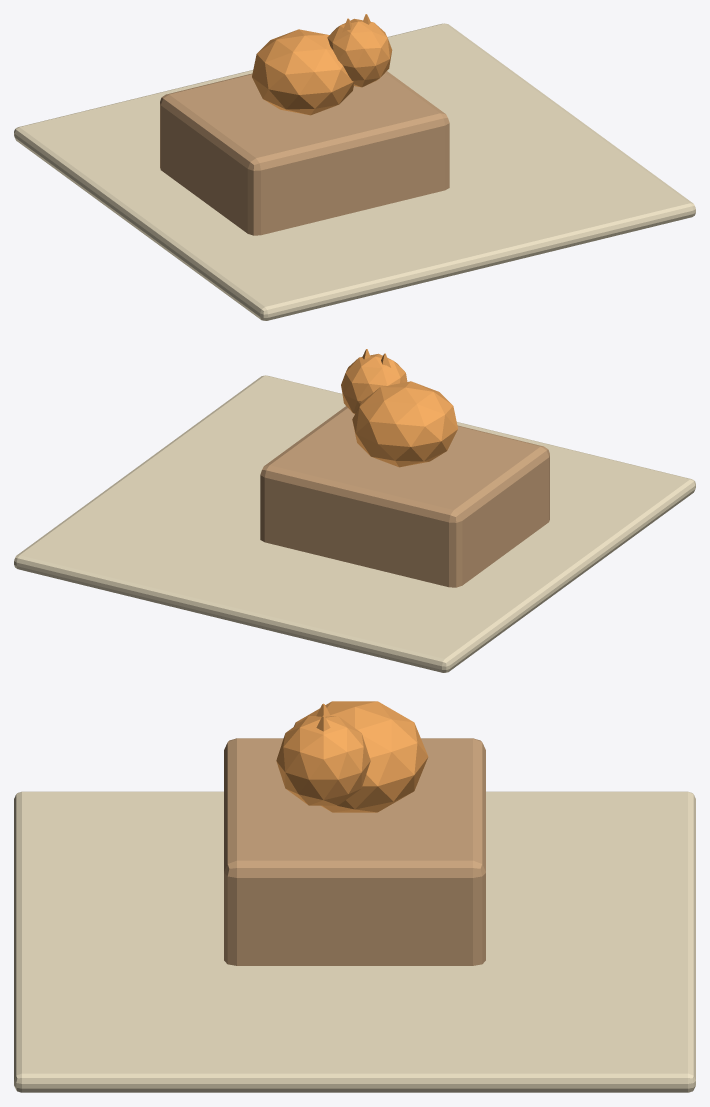
File: goc-meo.glb
The picture shows the model from 3 angles, top to bottom: view 1: azimuth 30°, elevation 25°; view 2: azimuth 150°, elevation 25°; view 3: azimuth 270°, elevation 25°; orthographic projection. The views are drawn at different scales.
Visible parts, largest first — view 1: goc-meo-0, goc-meo-1, goc-meo-2, goc-meo-3; view 2: goc-meo-0, goc-meo-1, goc-meo-2, goc-meo-3; view 3: goc-meo-0, goc-meo-1, goc-meo-2, goc-meo-3.
Part boxes in pixels (x1=…): goc-meo-0: x1=14, y1=23, x2=695, y2=320; goc-meo-1: x1=160, y1=71, x2=449, y2=235; goc-meo-2: x1=252, y1=29, x2=353, y2=115; goc-meo-3: x1=327, y1=18, x2=392, y2=87; goc-meo-0: x1=14, y1=375, x2=695, y2=672; goc-meo-1: x1=260, y1=406, x2=549, y2=587; goc-meo-2: x1=352, y1=381, x2=457, y2=467; goc-meo-3: x1=341, y1=353, x2=407, y2=413; goc-meo-0: x1=14, y1=791, x2=695, y2=1092; goc-meo-1: x1=224, y1=738, x2=485, y2=965; goc-meo-2: x1=294, y1=701, x2=428, y2=812; goc-meo-3: x1=276, y1=716, x2=370, y2=805.
Bounding box in the file's own units: 2.6 × 0.99 × 2.6.
